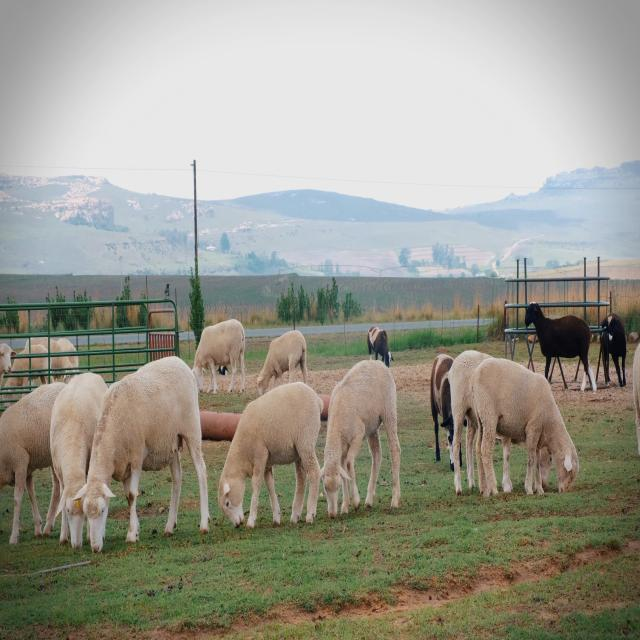sheep: (82, 346, 205, 562), (470, 319, 584, 520), (322, 337, 420, 538), (216, 358, 321, 536), (250, 320, 318, 386)
